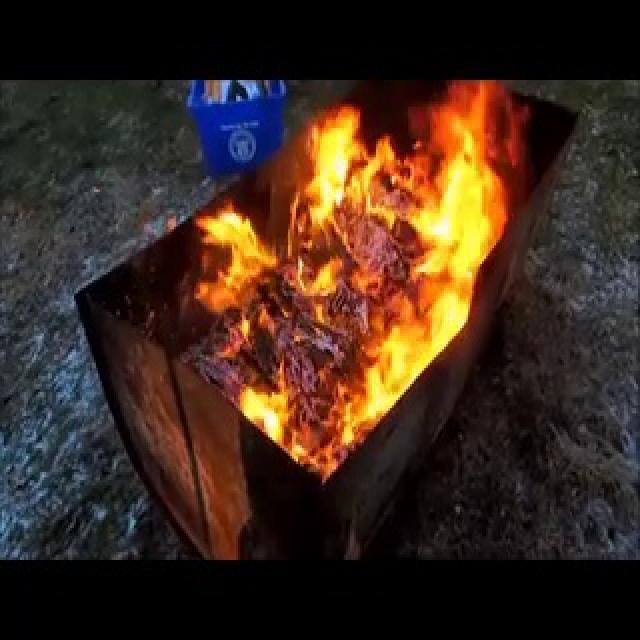fire: (184, 82, 516, 486)
